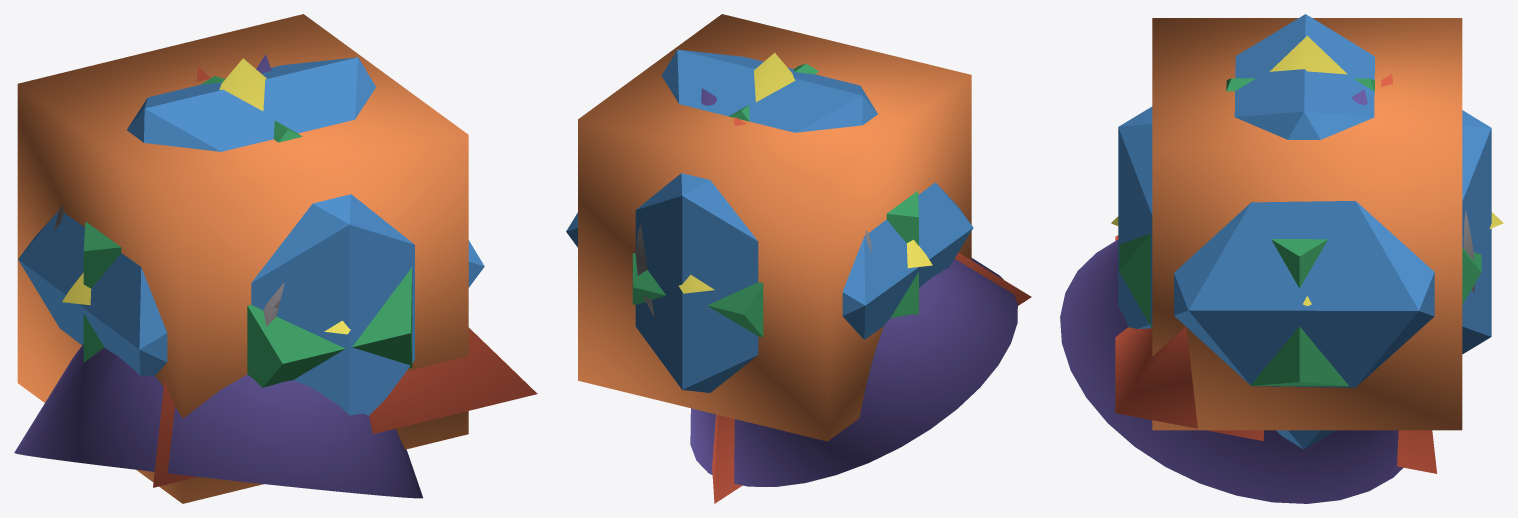
3 renders of one model, left to right at view 1: azimuth 30°, elevation 25°; view 2: azimuth 150°, elevation 25°; view 3: azimuth 270°, elevation 25°, orthographic. The views are drawn at different scales.
Parts seen in each view (by area): view 1: Cube, instance_3, Cone, instance_4, Cone.001, Cone.002; view 2: Cube, instance_3, Cone, instance_4, Cone.001, Cone.002, Cylinder; view 3: Cube, instance_3, Cone, Cone.001, instance_4, Cone.002.
Boxes of the visible parts, bbox=[...] form: Cube: bbox=[17, 14, 468, 503]; instance_3: bbox=[18, 57, 484, 415]; Cone: bbox=[14, 54, 422, 498]; instance_4: bbox=[83, 76, 412, 387]; Cone.001: bbox=[153, 66, 537, 487]; Cone.002: bbox=[62, 58, 350, 334]; Cube: bbox=[578, 14, 971, 441]; instance_3: bbox=[566, 49, 973, 392]; Cone: bbox=[690, 88, 1017, 486]; instance_4: bbox=[632, 63, 918, 337]; Cone.001: bbox=[712, 117, 1031, 503]; Cone.002: bbox=[678, 52, 932, 293]; Cylinder: bbox=[635, 224, 871, 317]; Cube: bbox=[1152, 18, 1462, 430]; instance_3: bbox=[1118, 14, 1491, 449]; Cone: bbox=[1060, 89, 1403, 503]; Cone.001: bbox=[1115, 74, 1437, 473]; instance_4: bbox=[1119, 78, 1481, 386]; Cone.002: bbox=[1111, 35, 1503, 306].
Size of the model in its own units: 1.89 by 2.01 by 1.84.
